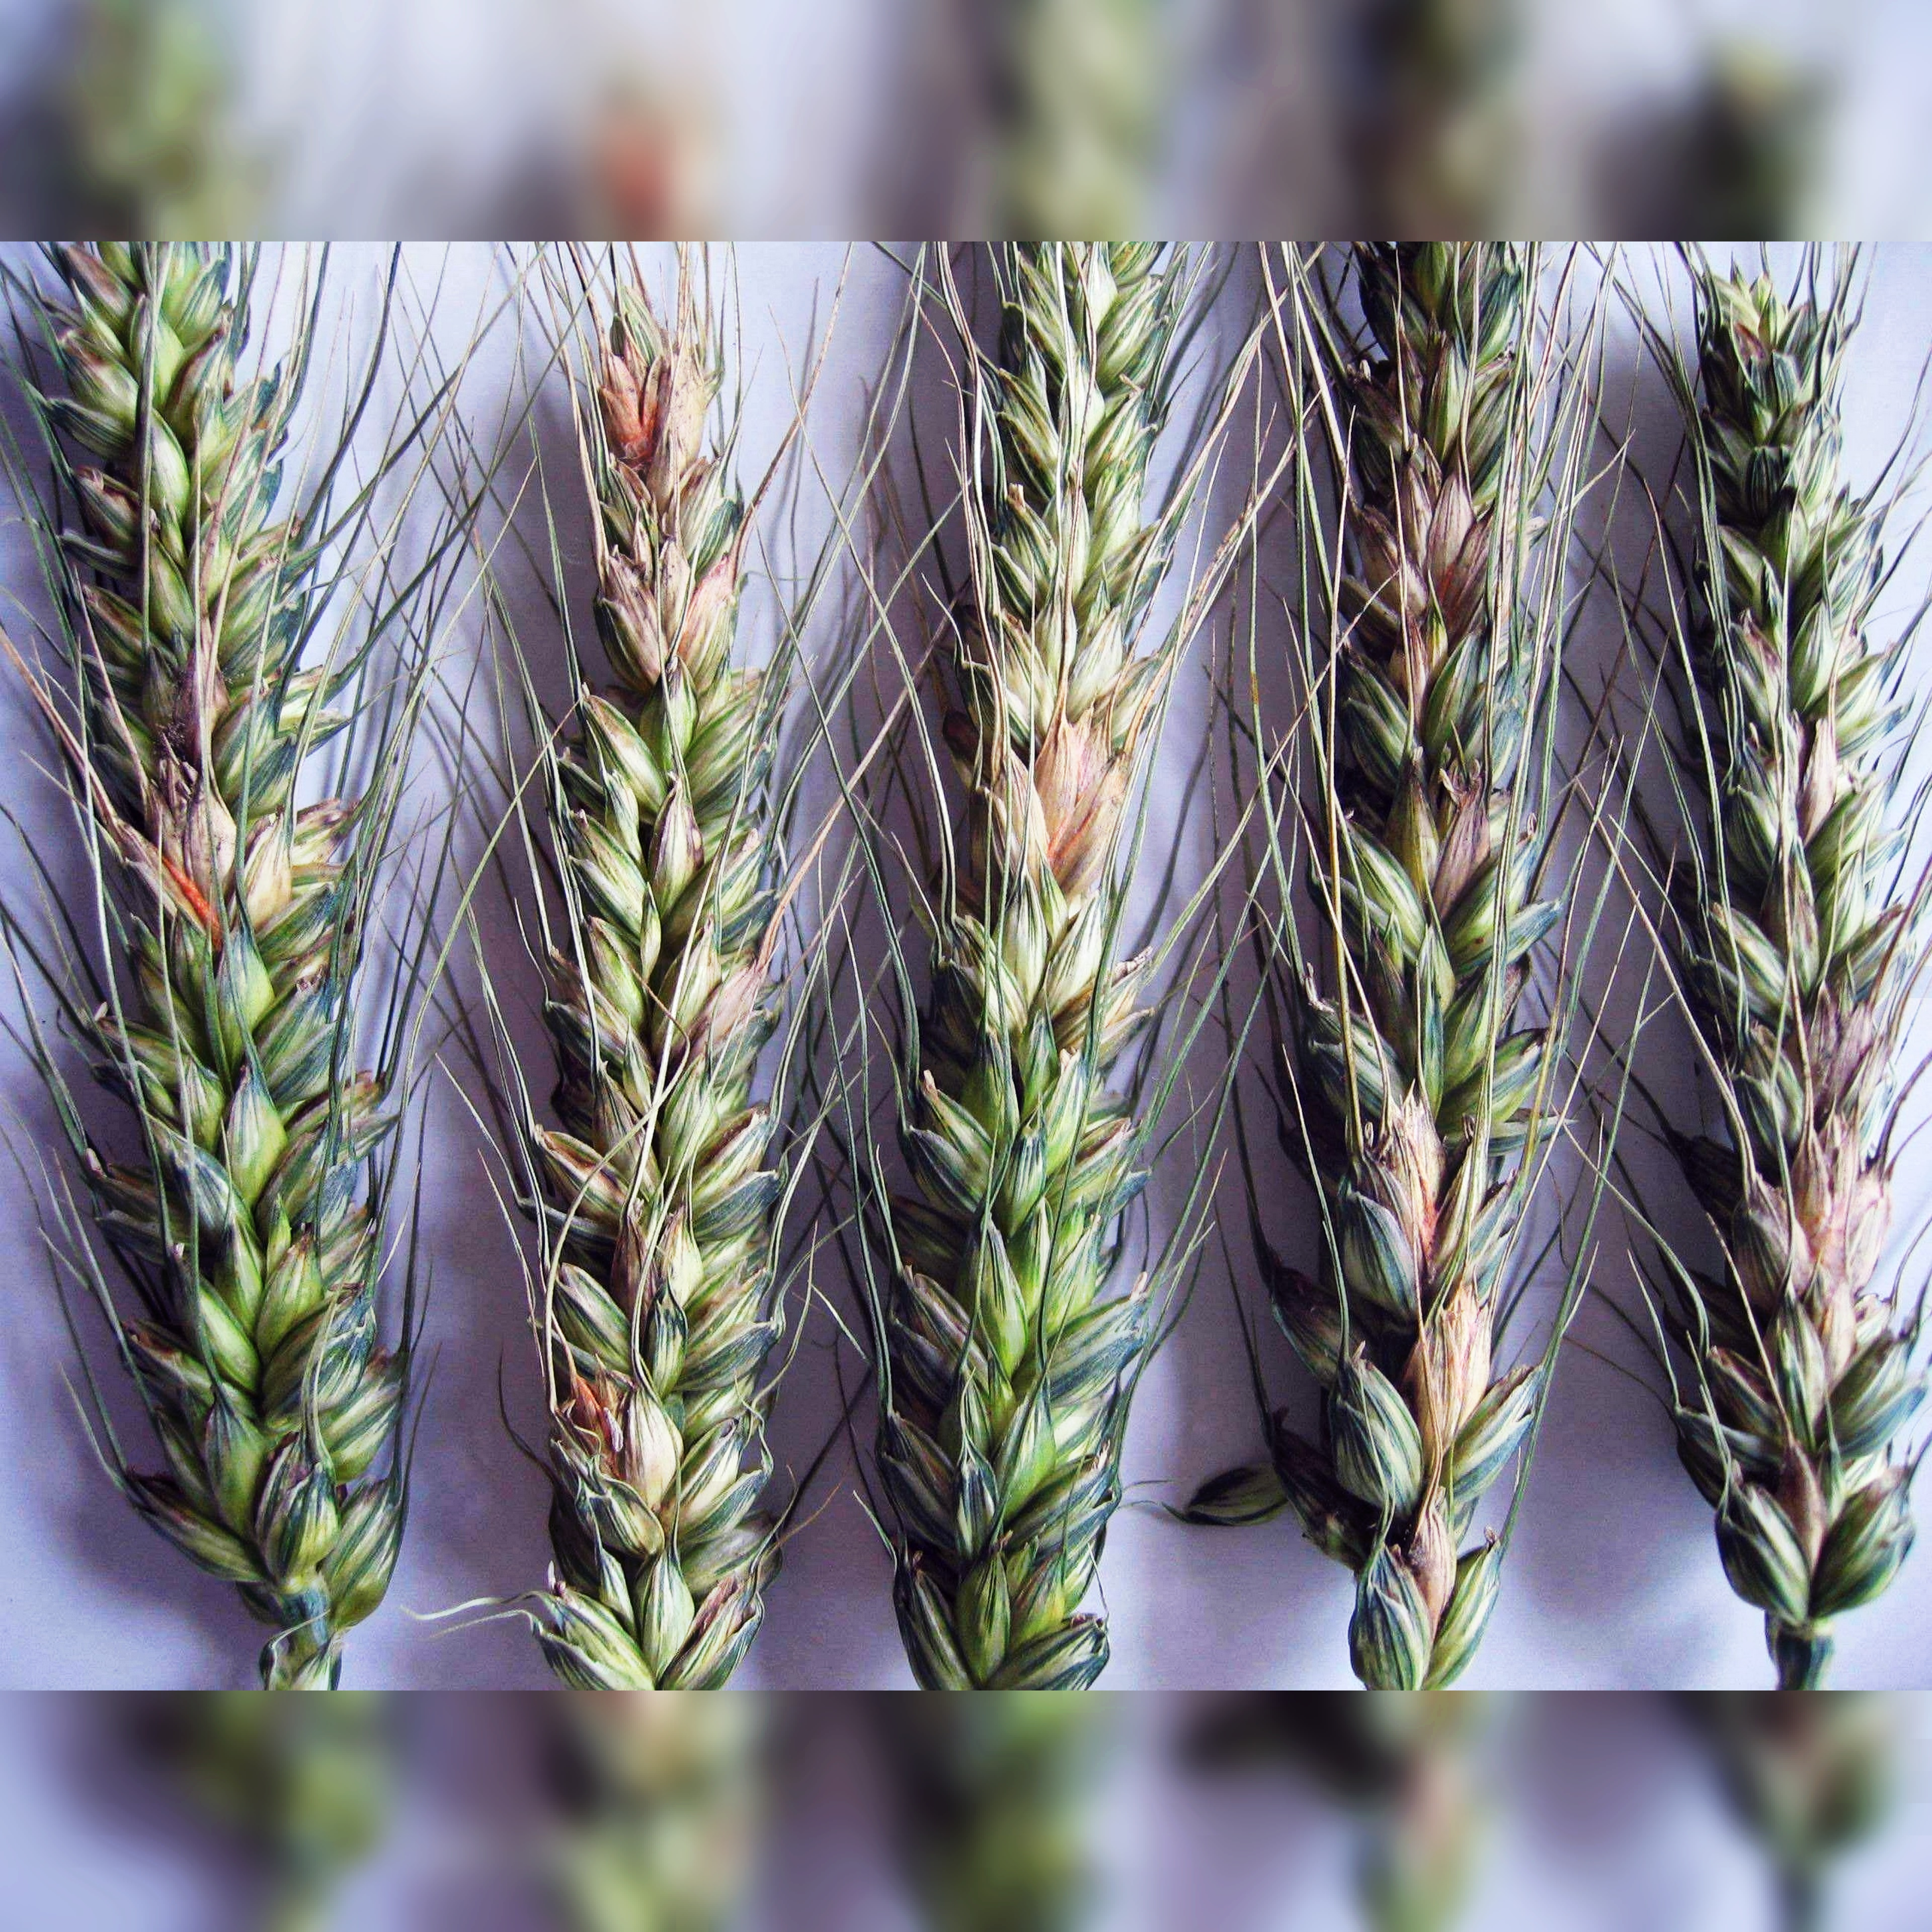Wheat scab: (1263, 299, 1932, 1690), (428, 267, 826, 1626), (895, 283, 1184, 1672)
